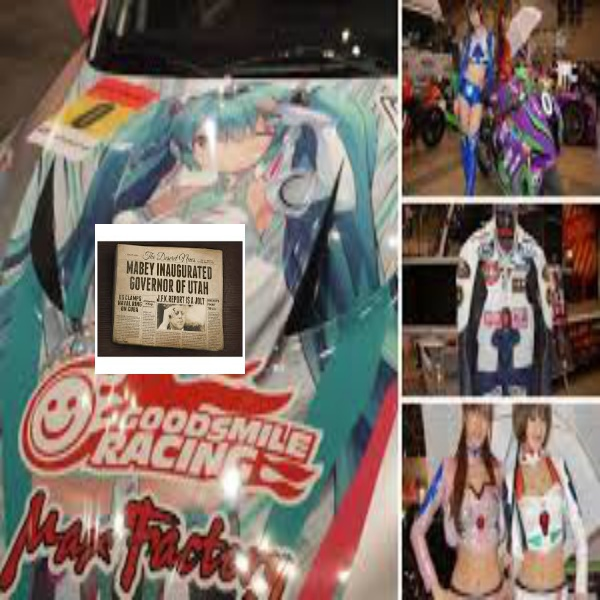time_cover: (85, 216, 237, 365)
